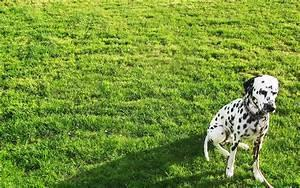dog: (202, 73, 279, 187)
